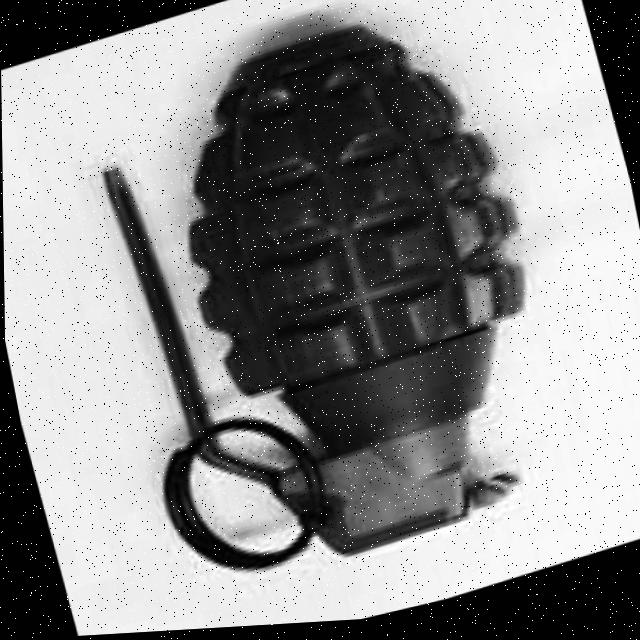grenade: (54, 0, 593, 637)
